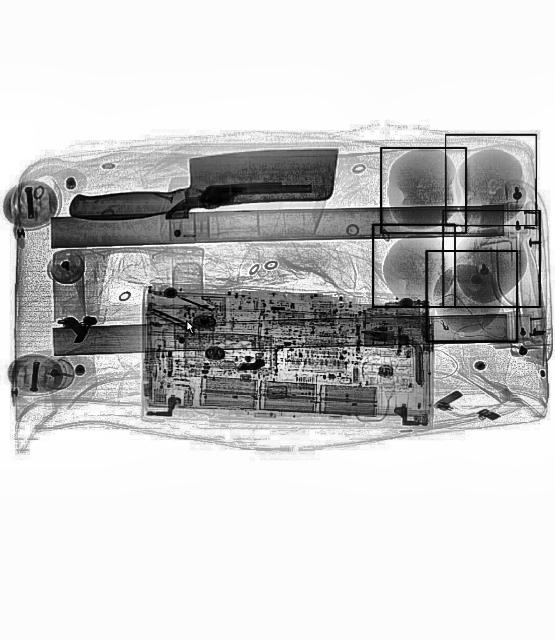Gun: (166, 182, 312, 220)
Knife: (68, 147, 338, 221)
